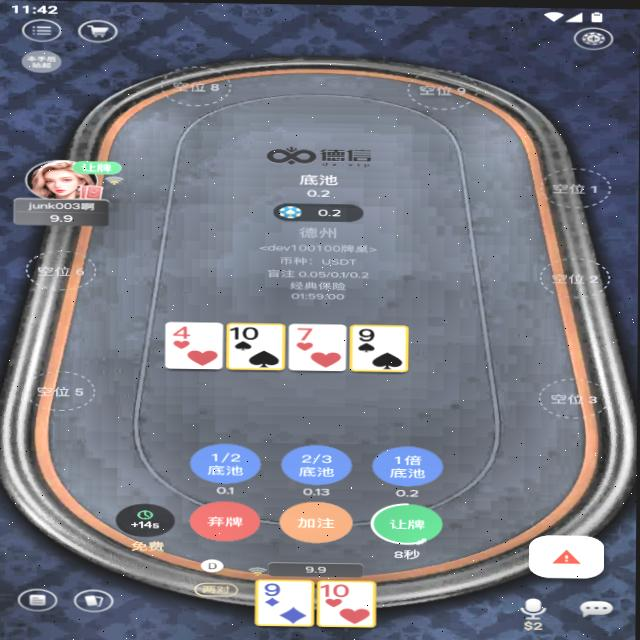10h: (320, 582, 352, 598)
10s: (229, 324, 262, 341)
4h: (170, 324, 196, 340)
7h: (293, 325, 320, 342)
9f: (260, 581, 286, 597)
9s: (355, 326, 381, 342)
